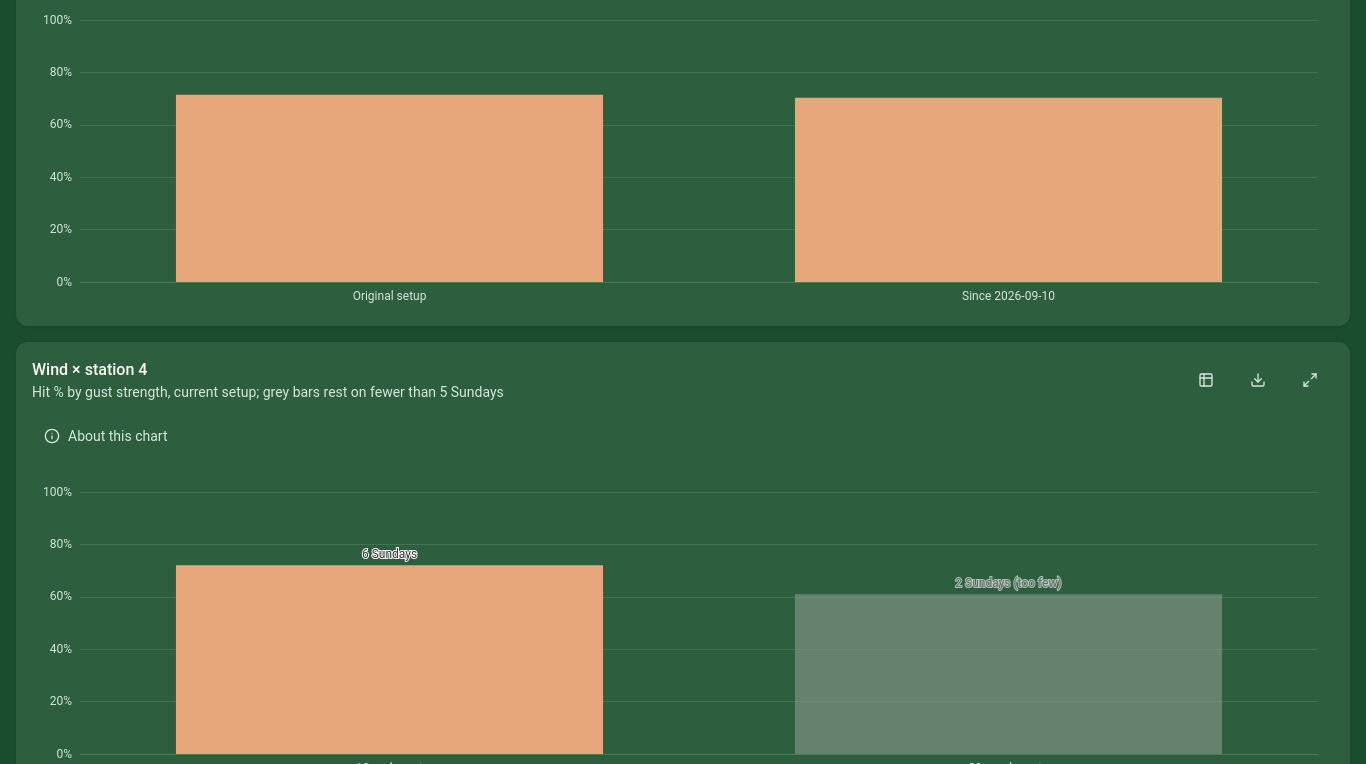
it: StationsPage › shows wind bands with their unit and Sundays
(page scrolled)
Click the button named "Table" at (1206, 380), box [1182,358,1230,402]
(page scrolled)
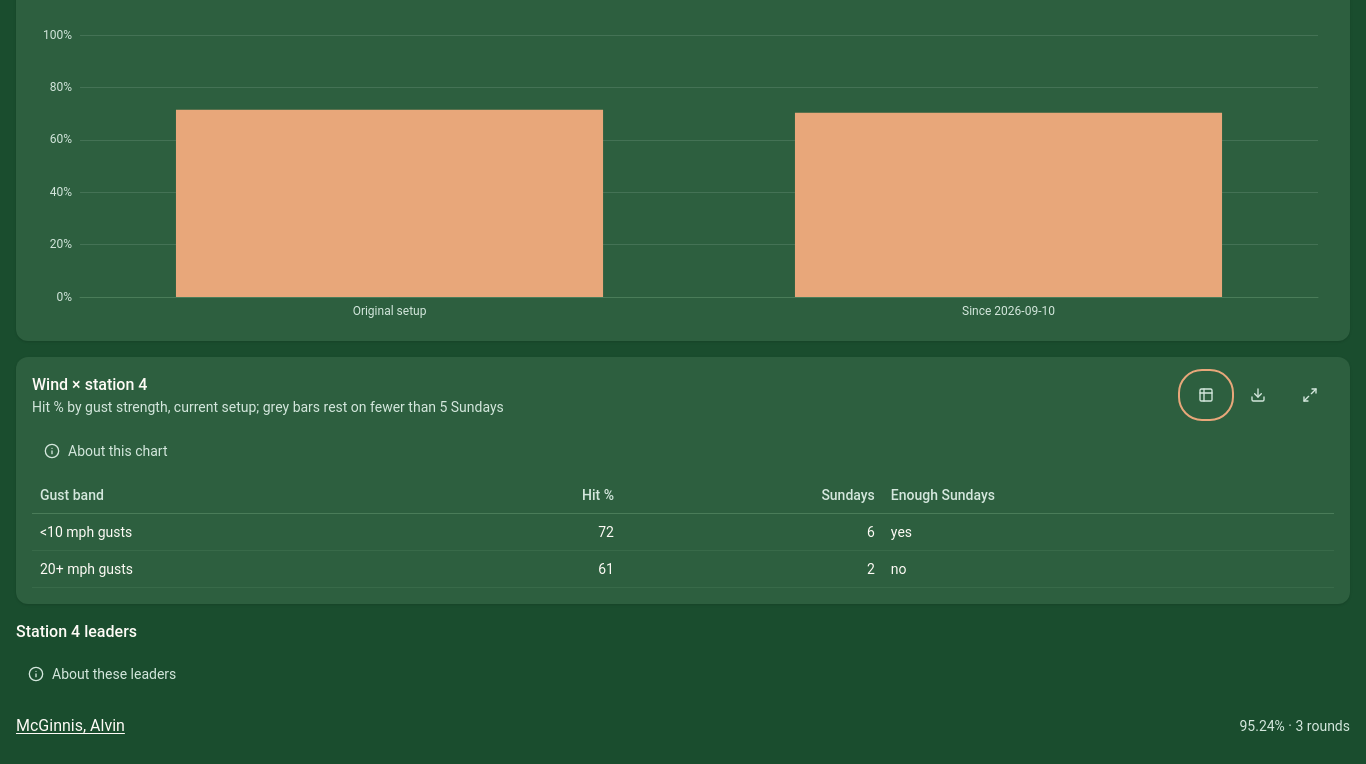
Expected: the row "<10 mph gusts 72 6 yes" is shown, [32,514,1334,550]
Expected: the text "20+ mph gusts" is shown, [32,550,442,588]
Expected: the column heading "Sundays" is shown, [622,477,883,514]
